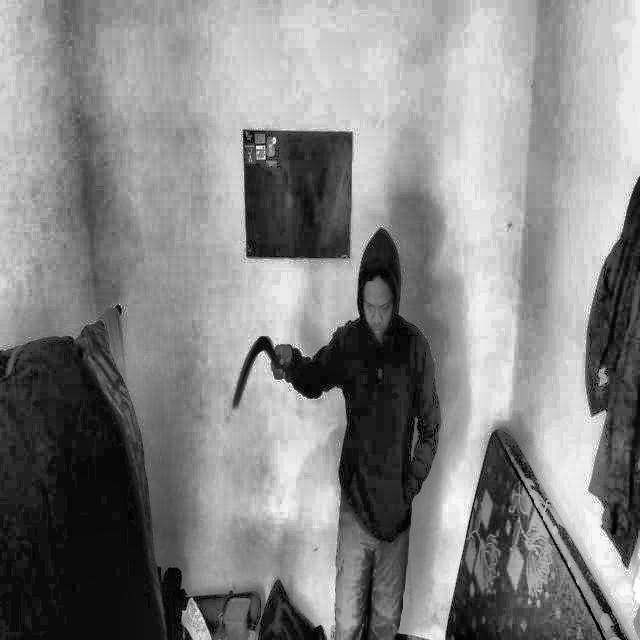celurit: (228, 339, 295, 420)
robbery: (225, 217, 450, 639)
